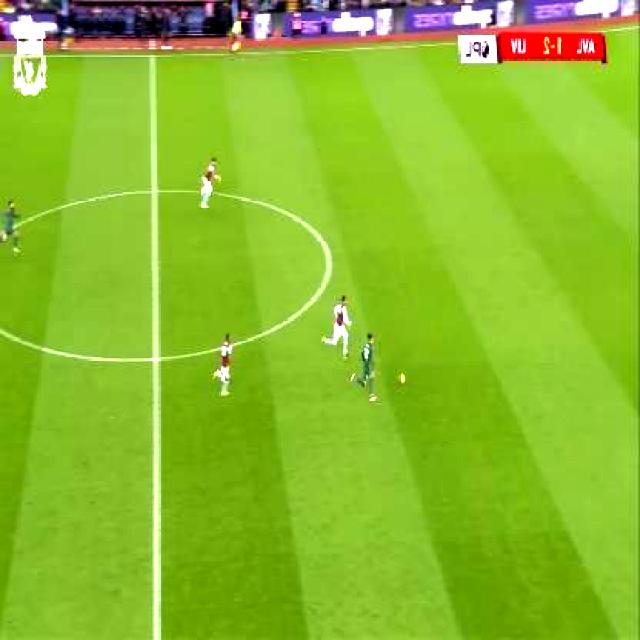halfcircle_bottom: (142, 338, 169, 380)
halfcircle_top: (142, 171, 166, 212)
midline_top_intersection: (137, 45, 168, 72)
